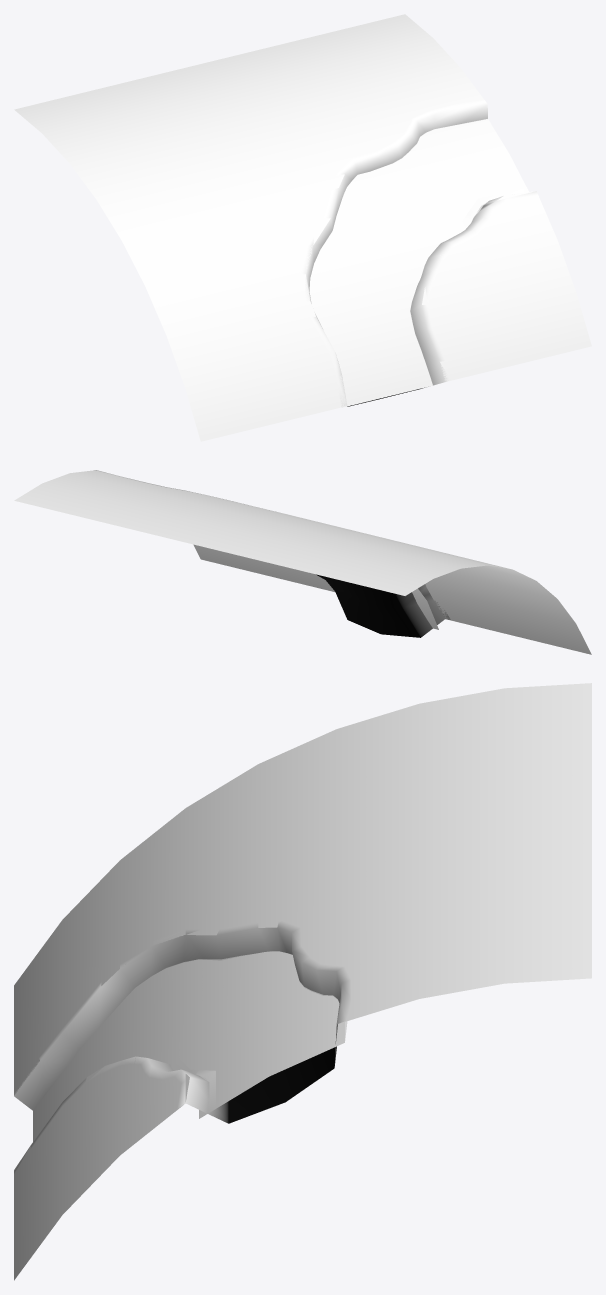
Rendered from grd_Rne_2.dae.
3 views of the same model, one above another, from view 1: azimuth 30°, elevation 25°; view 2: azimuth 150°, elevation 25°; view 3: azimuth 270°, elevation 25° (orthographic). The views are drawn at different scales.
Parts seen in each view (by area): view 1: grass_1_0, river_2_0, cliff_river_0_0, river_edge_3_0; view 2: grass_1_0, cliff_river_0_0, river_2_0; view 3: grass_1_0, river_2_0, cliff_river_0_0, river_edge_3_0.
Boxes of the visible parts, bbox=[...] form: grass_1_0: bbox=[14, 14, 591, 441]; river_2_0: bbox=[309, 119, 528, 407]; cliff_river_0_0: bbox=[300, 99, 538, 407]; river_edge_3_0: bbox=[309, 119, 528, 407]; grass_1_0: bbox=[14, 470, 591, 654]; cliff_river_0_0: bbox=[94, 470, 450, 637]; river_2_0: bbox=[412, 588, 438, 629]; grass_1_0: bbox=[14, 683, 591, 1280]; river_2_0: bbox=[33, 951, 344, 1141]; cliff_river_0_0: bbox=[14, 920, 351, 1173]; river_edge_3_0: bbox=[86, 951, 347, 1118].
Size of the model in its own units: 512 by 264 by 423.
4 materials, 1 textured.
